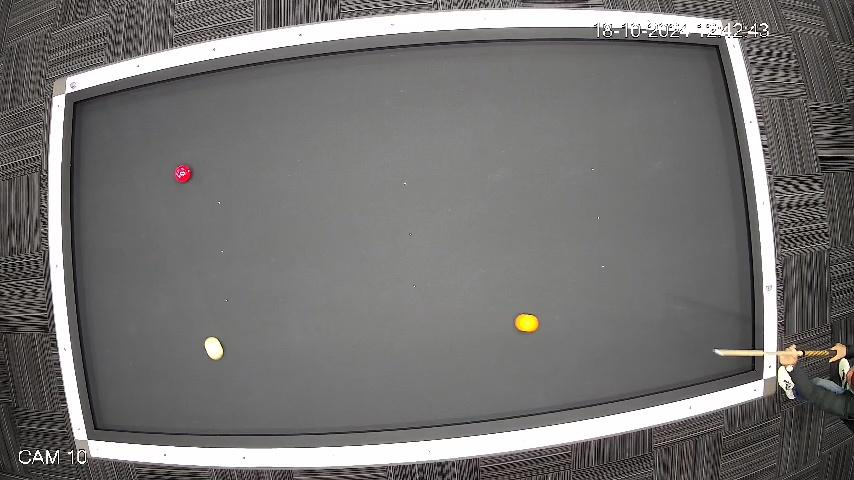Red: (172, 164, 193, 184)
White: (201, 335, 226, 361)
Yellow: (513, 314, 540, 332)
